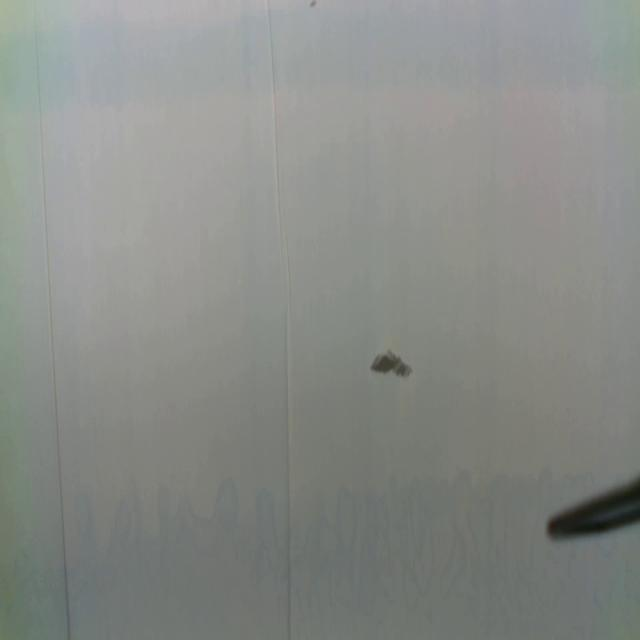color bleeding: (0, 0, 640, 124)
hole: (369, 347, 415, 383)
